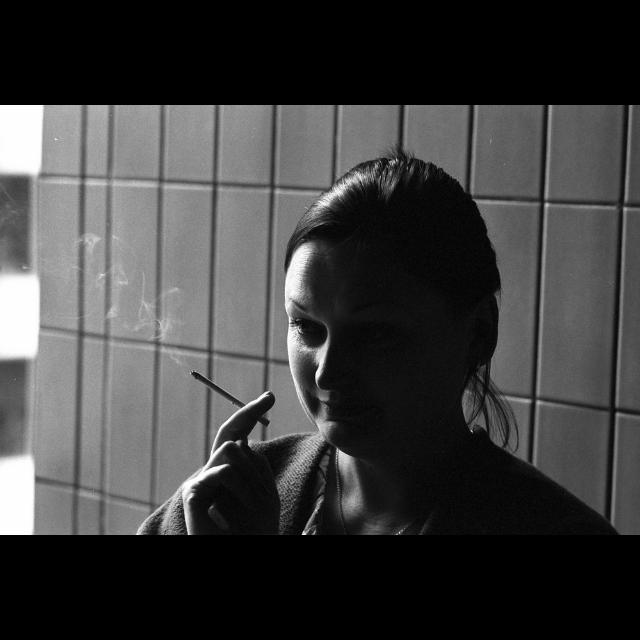rokok: (184, 366, 274, 426)
